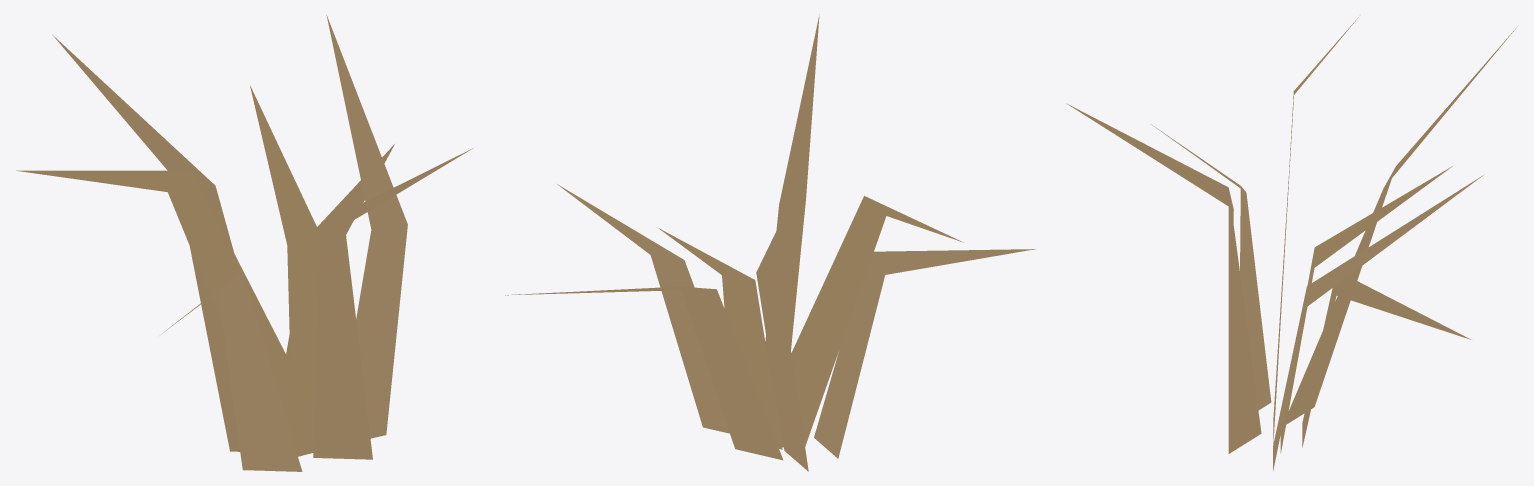
File: Grass_g_TwoS_03.fbx
3 renders of one model, left to right at view 1: azimuth 30°, elevation 25°; view 2: azimuth 150°, elevation 25°; view 3: azimuth 270°, elevation 25°, orthographic. The views are drawn at different scales.
Parts seen in each view (by area): view 1: Grass_g_TwoS_03; view 2: Grass_g_TwoS_03; view 3: Grass_g_TwoS_03.
Part boxes in pixels (left/top/right/bottom): Grass_g_TwoS_03: left=16, top=15, right=472, bottom=471; Grass_g_TwoS_03: left=505, top=14, right=1035, bottom=471; Grass_g_TwoS_03: left=1066, top=17, right=1517, bottom=471.
Bounding box in the file's own units: 0.5484 × 0.4434 × 0.5061.
